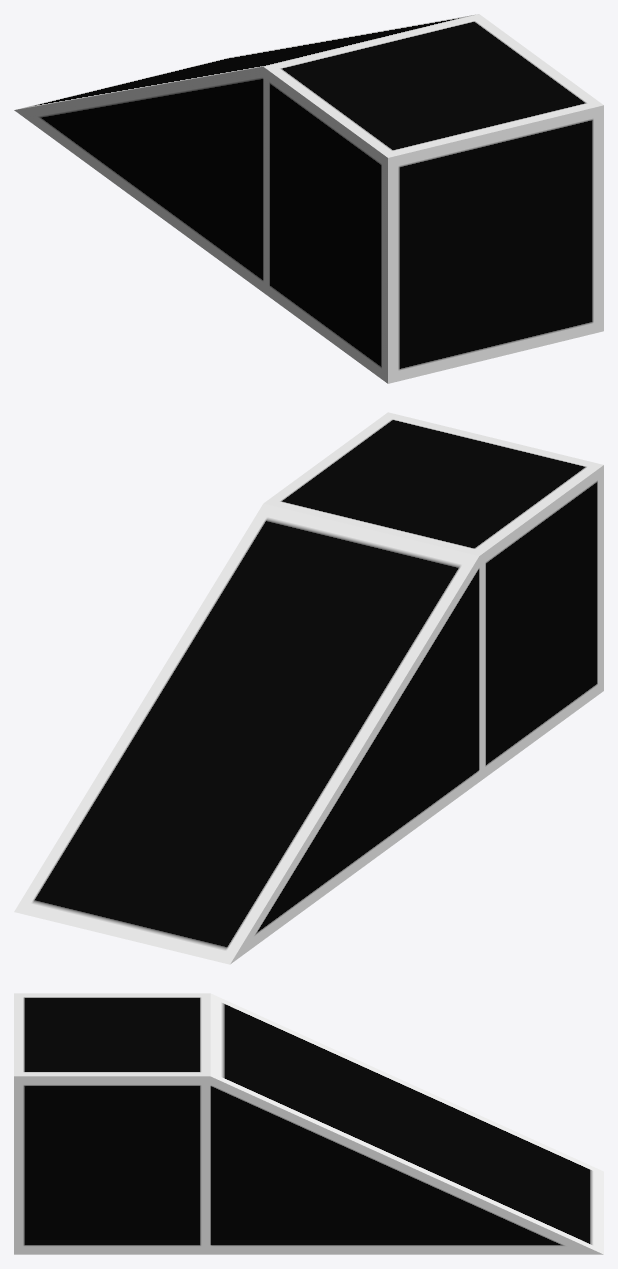
Rendered from ramp.fbx.
3 views of the same model, one above another, from view 1: azimuth 30°, elevation 25°; view 2: azimuth 150°, elevation 25°; view 3: azimuth 270°, elevation 25° (orthographic). The views are drawn at different scales.
Visible parts, largest first — view 1: Cube; view 2: Cube; view 3: Cube.
Part boxes in pixels (x1,y1,x2,y2): Cube: [14, 14, 603, 383]; Cube: [14, 412, 603, 964]; Cube: [14, 993, 603, 1254].
Size of the model in its own units: 200 by 200 by 600.
